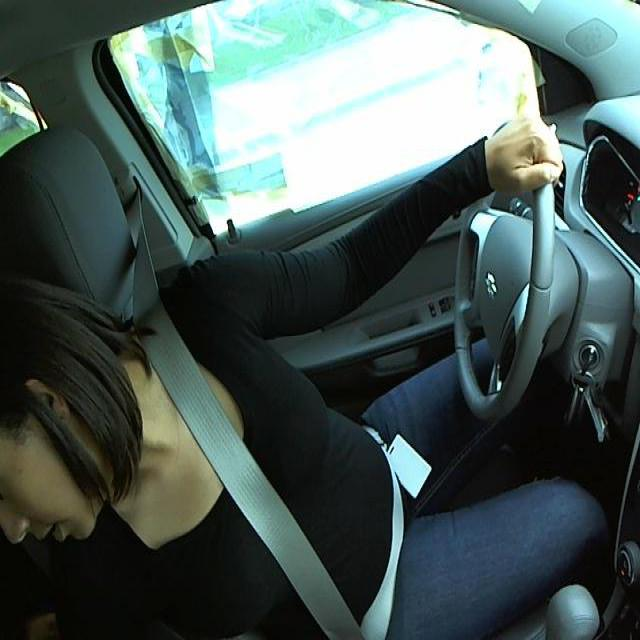seatbelt: (163, 378, 379, 638)
